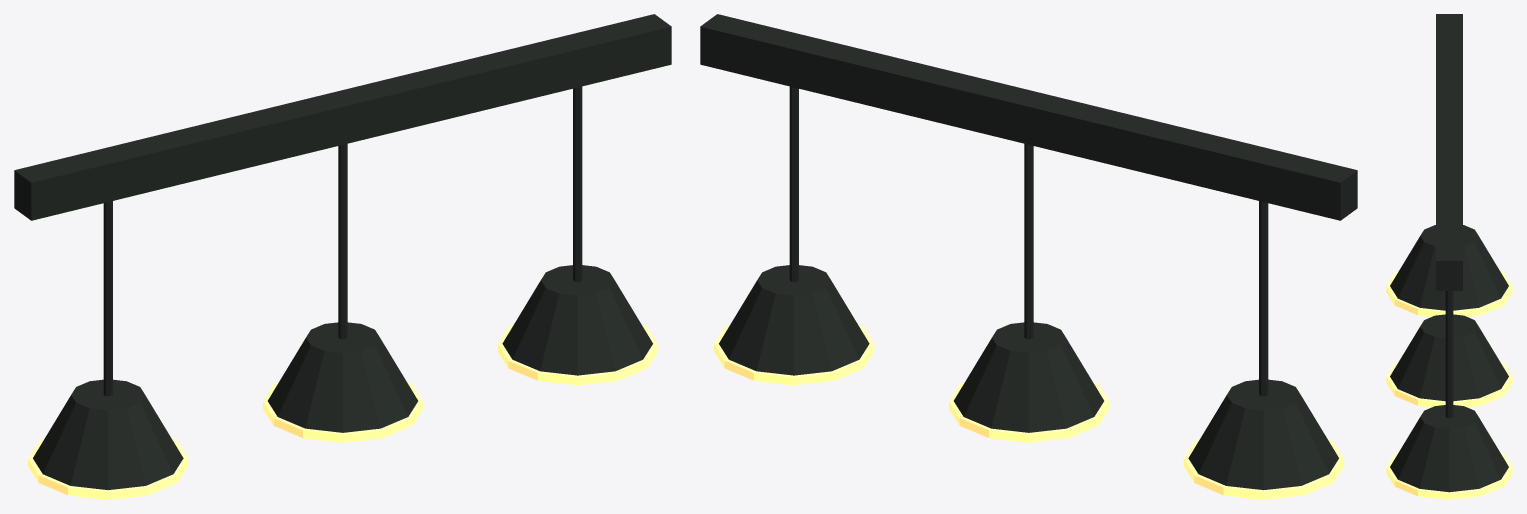
Rendered from gh_pendant_v01.glb.
The picture shows the model from 3 angles, left to right: view 1: azimuth 30°, elevation 25°; view 2: azimuth 150°, elevation 25°; view 3: azimuth 270°, elevation 25°; orthographic projection. The views are drawn at different scales.
Visible parts, largest first — view 1: Three suspended warehouse pendants; view 2: Three suspended warehouse pendants; view 3: Three suspended warehouse pendants.
Boxes of the visible parts, x1,y1,x2,y2 form: Three suspended warehouse pendants: [14, 14, 671, 499]; Three suspended warehouse pendants: [700, 14, 1357, 499]; Three suspended warehouse pendants: [1386, 14, 1512, 499].
Bounding box in the file's own units: 3 × 1.53 × 0.65.
2 materials, 2 textured.
